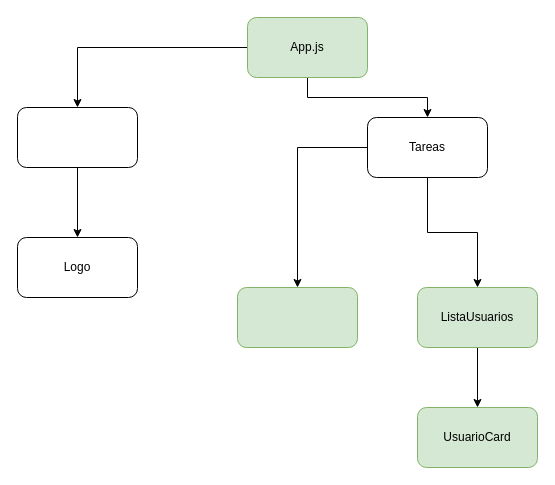
This 555x485 diagram has some shape labels left out. The shapes that lost their labels are listed below. From the top down, each one's centre as x and y in pixels, then its label:
At (77,137): "Header".
At (297,317): "ListaTareas".
